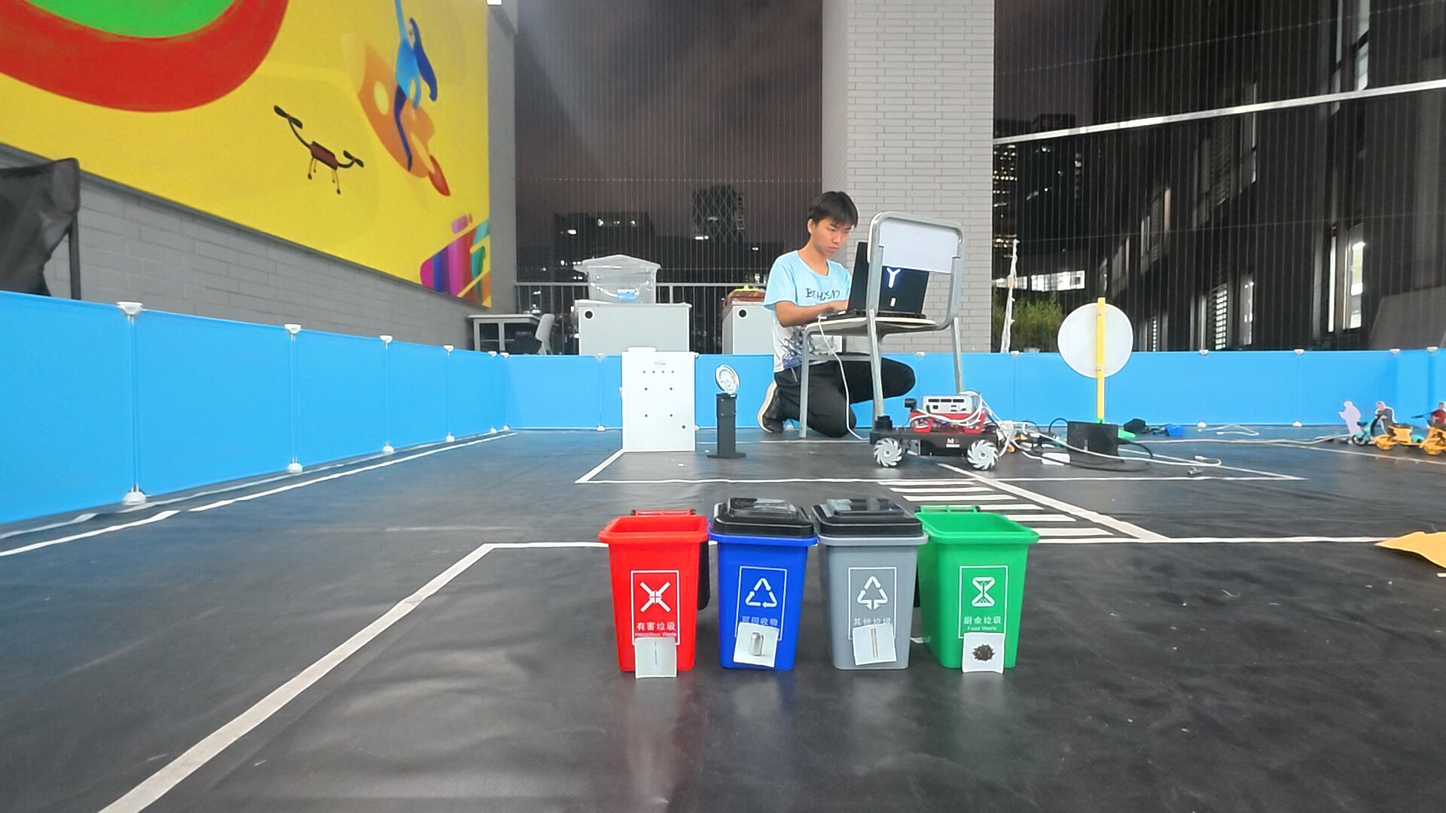food_trash: (966, 635, 1002, 666)
hazardous_trash: (636, 639, 674, 675)
other_trash: (856, 628, 891, 661)
recyclable_trash: (738, 628, 774, 662)
